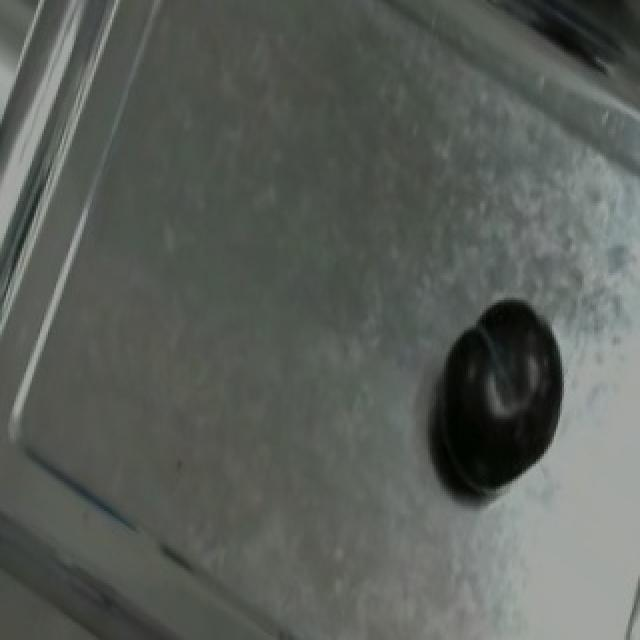Fruit: (428, 283, 578, 481)
